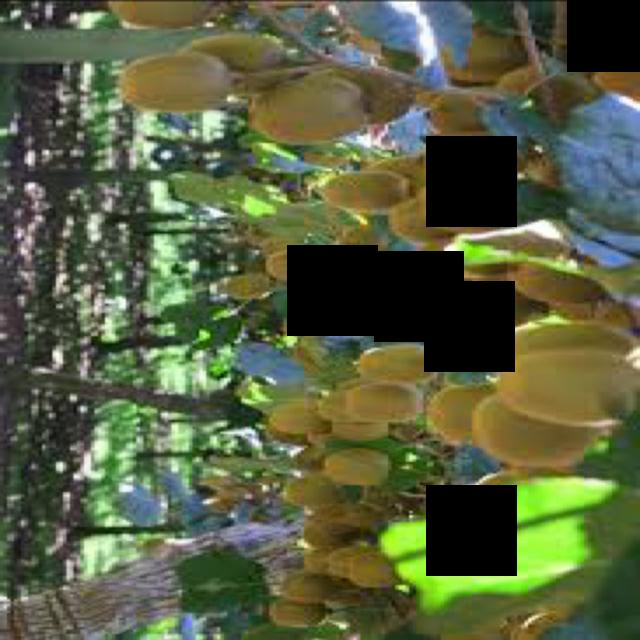kiwi: (501, 346, 640, 425), (477, 390, 610, 462), (194, 29, 306, 94), (260, 76, 369, 141), (306, 62, 414, 127), (127, 53, 239, 111), (442, 25, 544, 83), (505, 250, 614, 304), (425, 174, 526, 232), (428, 129, 540, 173), (396, 194, 480, 243), (445, 285, 547, 325), (431, 90, 522, 134), (358, 155, 449, 199), (361, 343, 452, 383), (417, 238, 508, 278), (330, 169, 414, 209), (347, 381, 431, 418), (309, 504, 383, 546), (113, 1, 229, 27), (585, 1, 640, 48), (326, 448, 396, 483), (351, 550, 418, 585), (271, 399, 348, 429), (595, 43, 640, 93), (309, 280, 376, 313), (337, 411, 397, 441), (285, 571, 348, 599), (295, 473, 348, 506), (271, 250, 334, 276), (274, 599, 337, 625), (225, 271, 281, 297)
